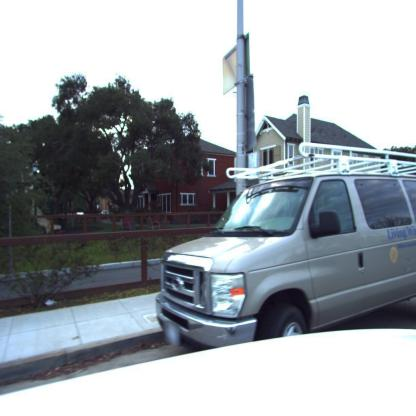car: (153, 158, 416, 349)
